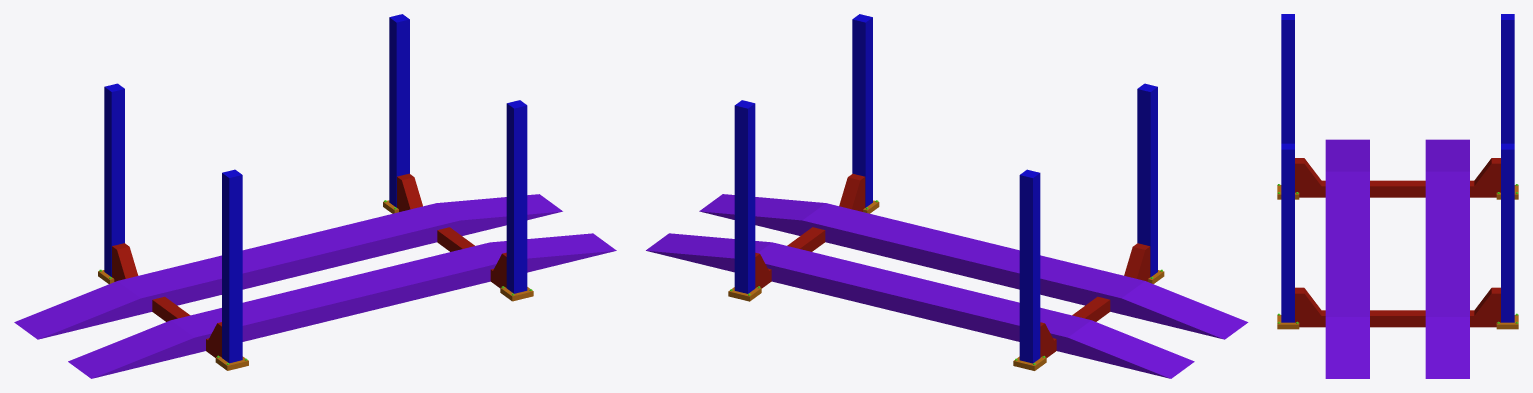
Rendered from Car Lift.fbx.
The picture shows the model from 3 angles, left to right: view 1: azimuth 30°, elevation 25°; view 2: azimuth 150°, elevation 25°; view 3: azimuth 270°, elevation 25°; orthographic projection. The views are drawn at different scales.
Parts seen in each view (by area): view 1: Car Lift; view 2: Car Lift; view 3: Car Lift.
Part boxes in pixels (box(x1,y1,x2,y2)): Car Lift: box(14, 14, 616, 378); Car Lift: box(646, 14, 1248, 378); Car Lift: box(1277, 14, 1518, 378).
Bounding box in the file's own units: 129 × 44.66 × 55.03.
